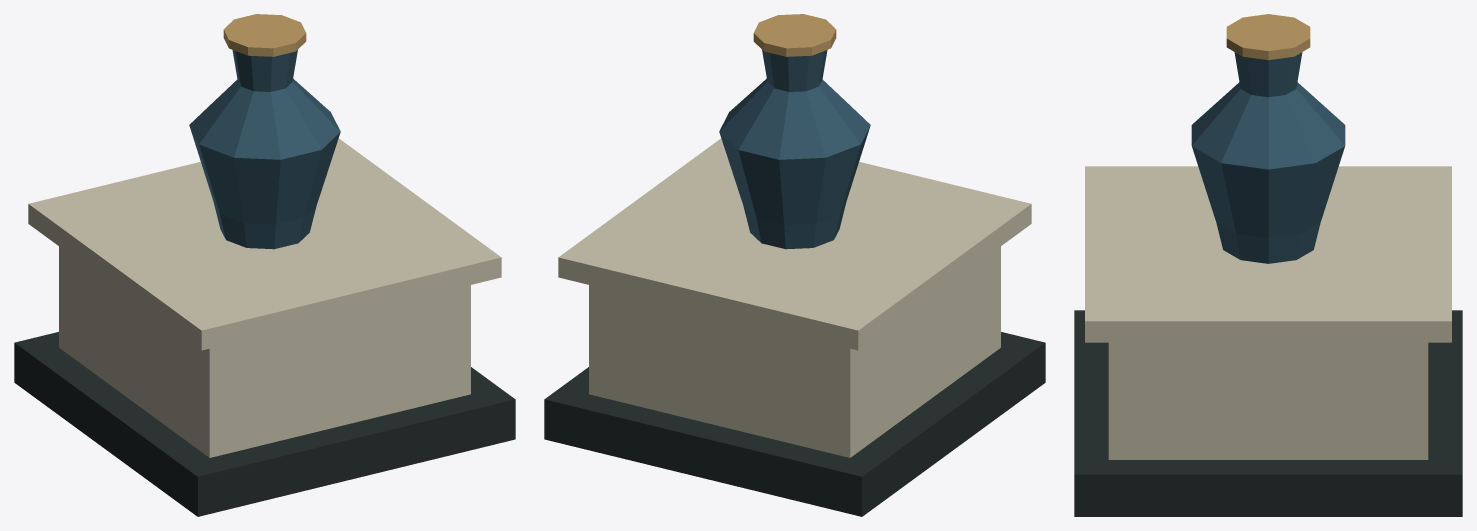
File: LP_Temporary_SmallPlinth.fbx
3 renders of one model, left to right at view 1: azimuth 30°, elevation 25°; view 2: azimuth 150°, elevation 25°; view 3: azimuth 270°, elevation 25°, orthographic. The views are drawn at different scales.
Parts seen in each view (by area): view 1: M_Central_Limestone, Charcoal, M_Museum_DeepBlue, AgedBrass; view 2: M_Central_Limestone, Charcoal, M_Museum_DeepBlue, AgedBrass; view 3: M_Central_Limestone, Charcoal, M_Museum_DeepBlue, AgedBrass.
Boxes of the visible parts, bbox=[...] form: M_Central_Limestone: bbox=[28, 138, 501, 457]; Charcoal: bbox=[14, 332, 515, 516]; M_Museum_DeepBlue: bbox=[189, 50, 340, 249]; AgedBrass: bbox=[223, 14, 306, 56]; M_Central_Limestone: bbox=[558, 138, 1031, 457]; Charcoal: bbox=[544, 332, 1045, 516]; M_Museum_DeepBlue: bbox=[719, 50, 870, 249]; AgedBrass: bbox=[753, 14, 836, 56]; M_Central_Limestone: bbox=[1085, 166, 1451, 459]; Charcoal: bbox=[1074, 310, 1462, 516]; M_Museum_DeepBlue: bbox=[1191, 52, 1345, 263]; AgedBrass: bbox=[1226, 14, 1310, 60].
Bounding box in the file's own units: 70 × 80 × 70.
